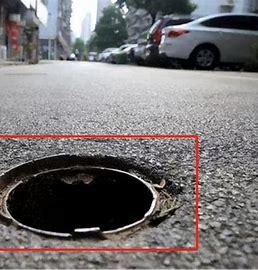wellcover: (1, 136, 180, 248)
